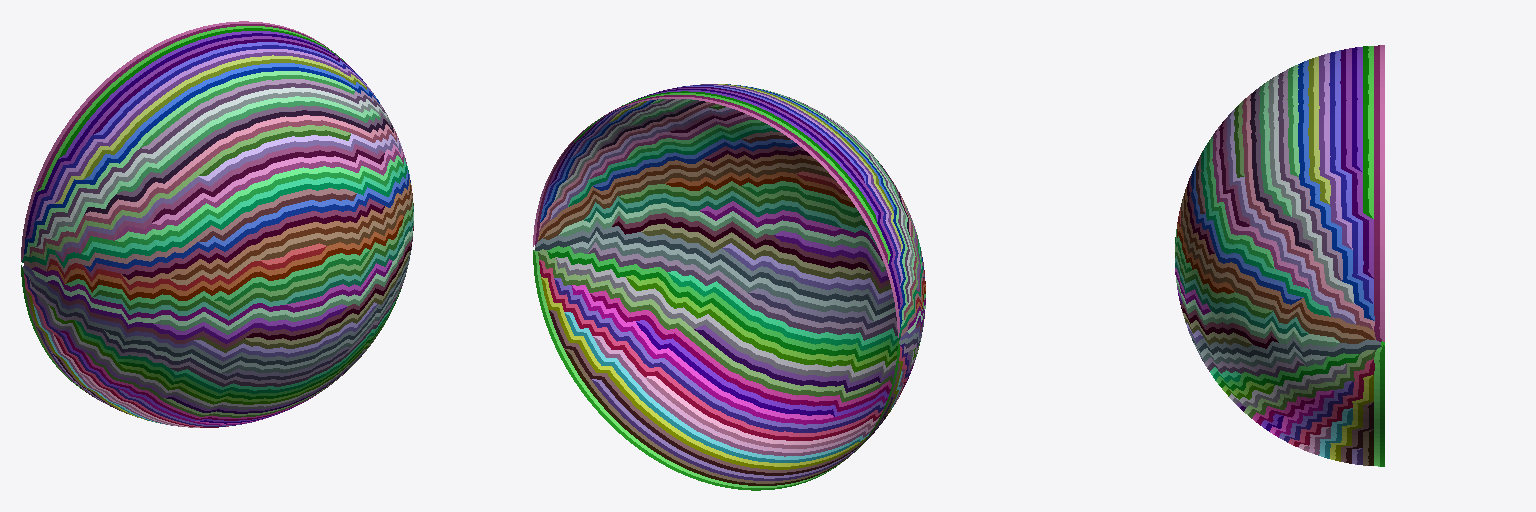
The model's file is onestroke.obj.
3 renders of one model, left to right at view 1: azimuth 30°, elevation 25°; view 2: azimuth 150°, elevation 25°; view 3: azimuth 270°, elevation 25°, orthographic.
Bounding box in the file's own units: 15 × 15 × 7.5.